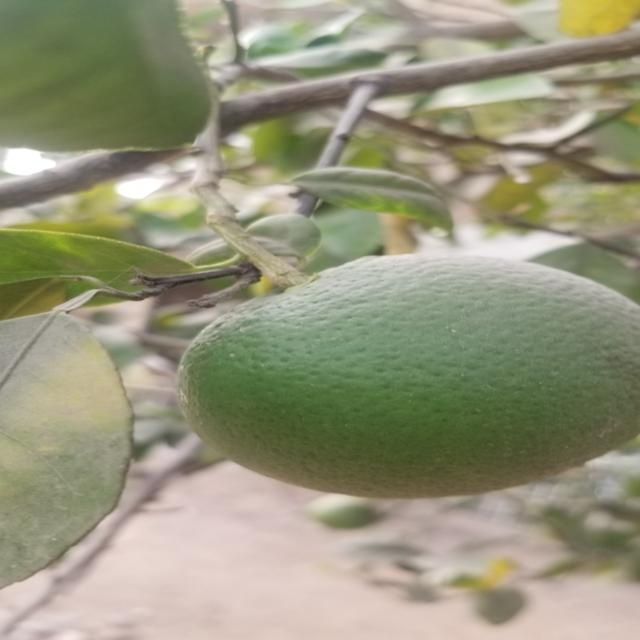agrume: (173, 259, 637, 495)
